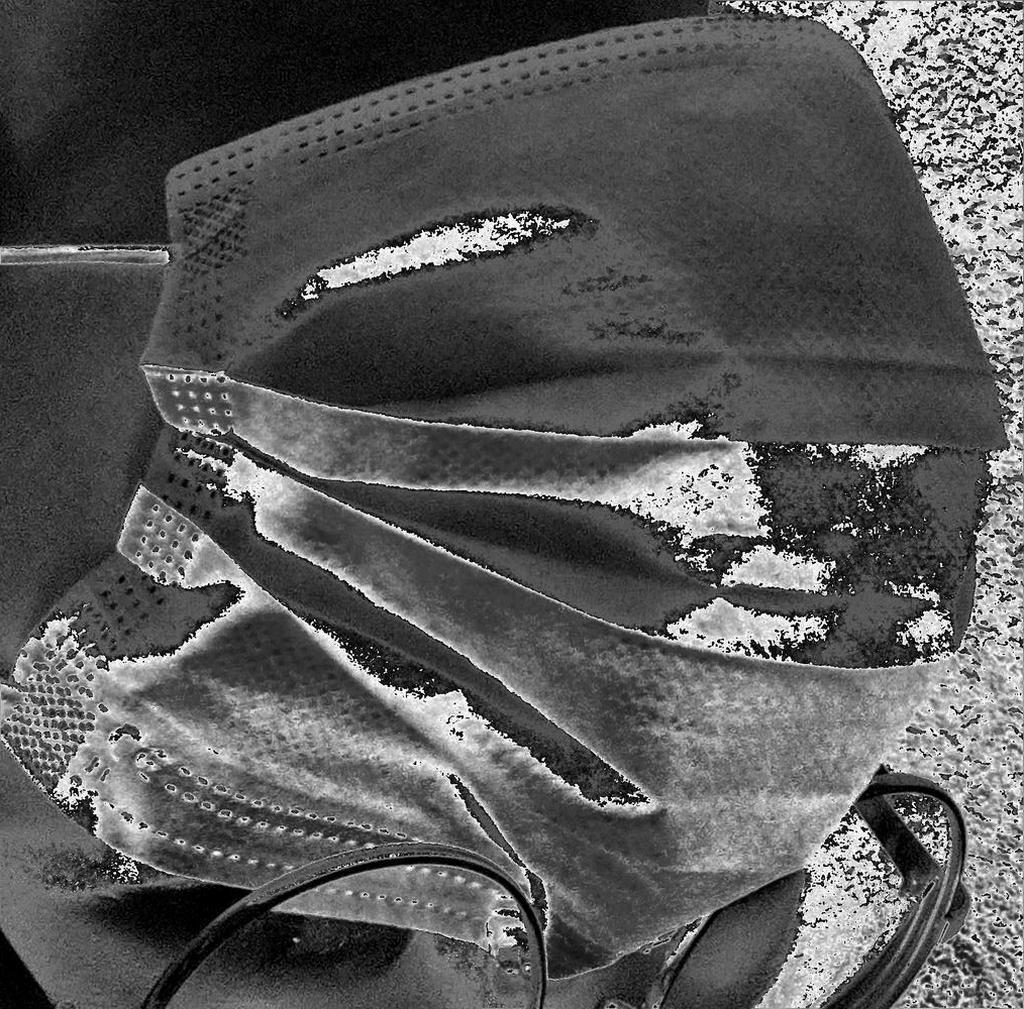Low GSM: (14, 9, 1013, 987)
